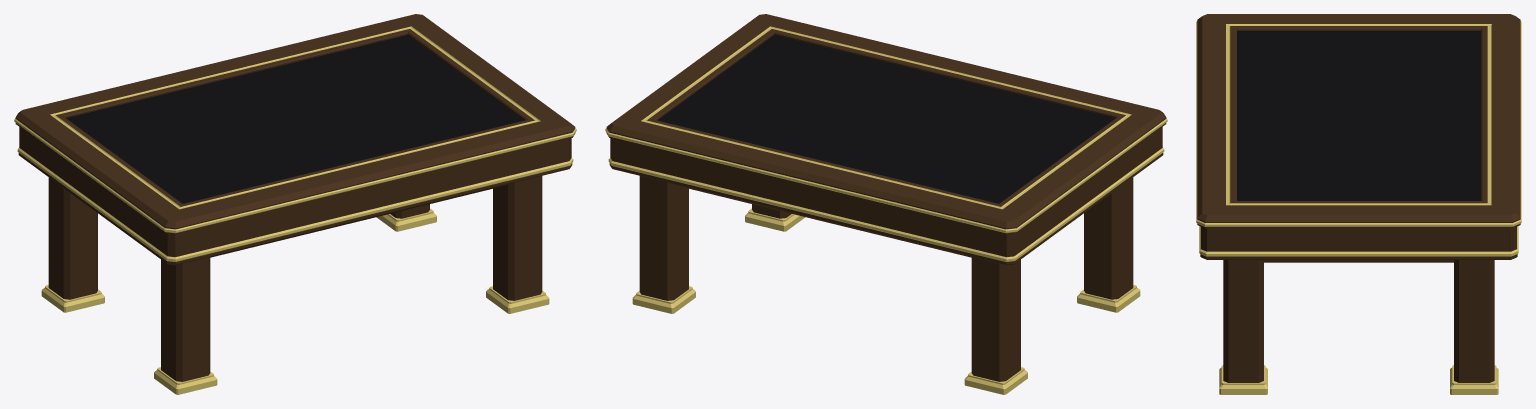
The model's file is gaming-table-5ca9d5.glb.
3 renders of one model, left to right at view 1: azimuth 30°, elevation 25°; view 2: azimuth 150°, elevation 25°; view 3: azimuth 270°, elevation 25°, orthographic. The views are drawn at different scales.
Visible parts, largest first — view 1: table, gilt; view 2: table, gilt; view 3: table, gilt.
Part boxes in pixels (left/top/right/bottom): table: left=15, top=14, right=575, bottom=381; gilt: left=14, top=26, right=576, bottom=394; table: left=606, top=14, right=1166, bottom=381; gilt: left=605, top=26, right=1167, bottom=394; table: left=1197, top=14, right=1520, bottom=382; gilt: left=1196, top=21, right=1521, bottom=394.
Bounding box in the file's own units: 1.8 × 0.76 × 1.2.
